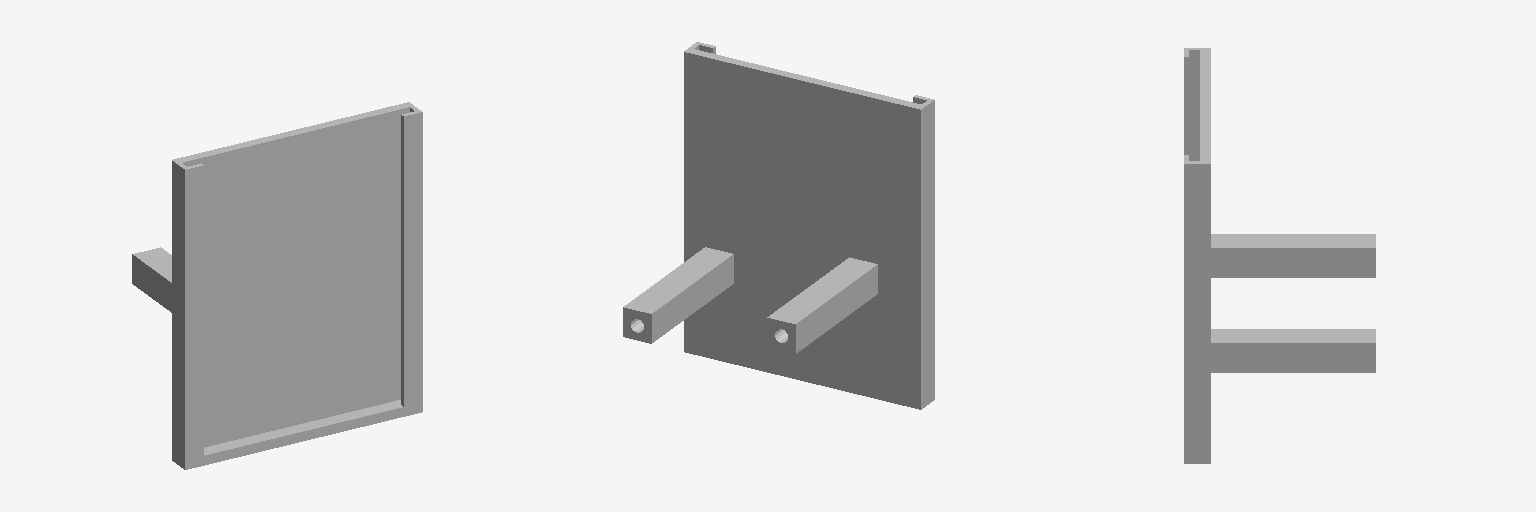
File: Крышка V2.obj
3 renders of one model, left to right at view 1: azimuth 30°, elevation 25°; view 2: azimuth 150°, elevation 25°; view 3: azimuth 270°, elevation 25°, orthographic.
Visible parts, largest first — view 1: Твердое тело1; view 2: Твердое тело1; view 3: Твердое тело1.
Boxes of the visible parts, box(x1,y1,x2,y2) form: Твердое тело1: box(132, 102, 422, 469); Твердое тело1: box(623, 42, 934, 409); Твердое тело1: box(1184, 48, 1375, 463).
Size of the model in its own units: 50 by 60.4 by 35.